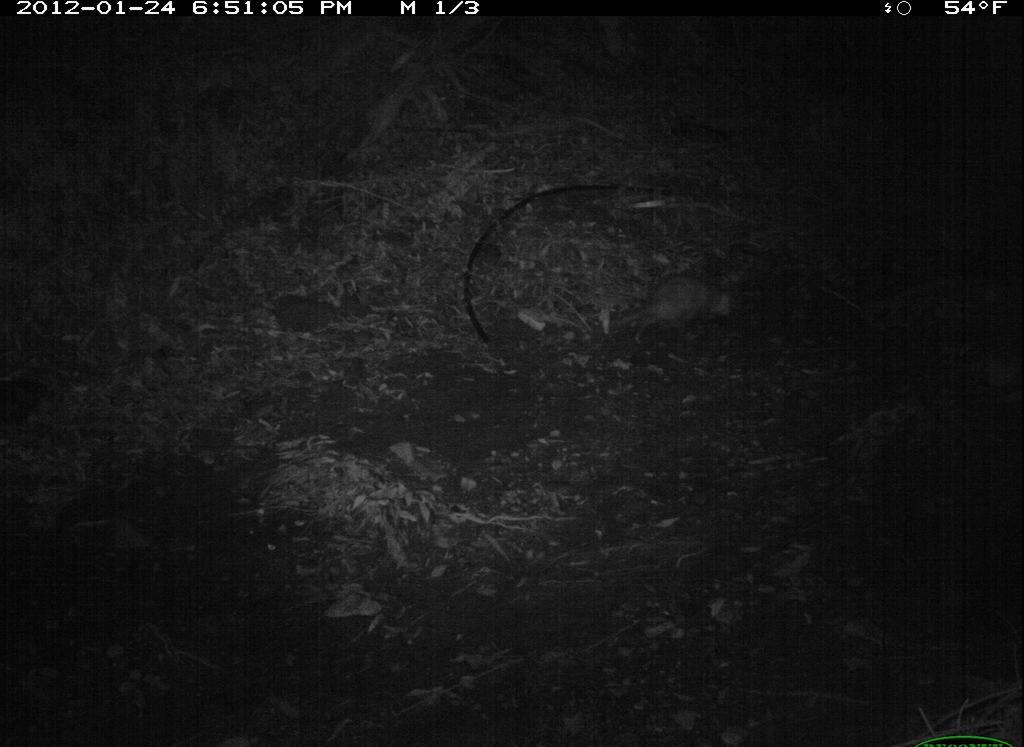opossum: (603, 271, 765, 360)
